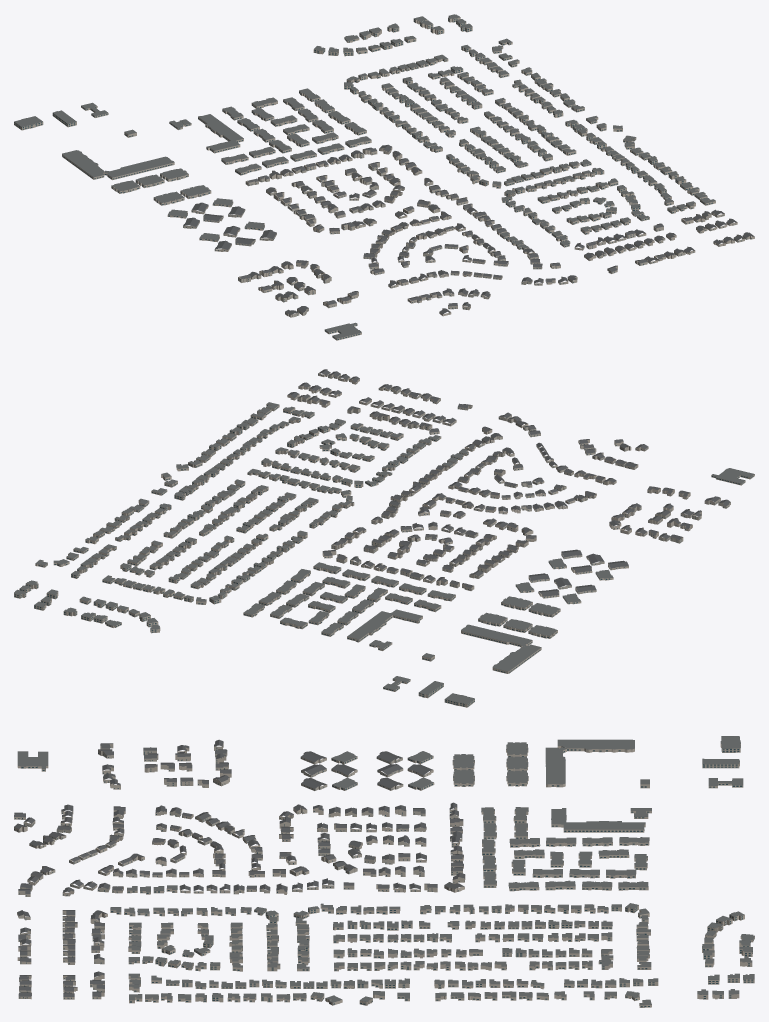
3 views of the same model, one above another, from view 1: azimuth 30°, elevation 25°; view 2: azimuth 150°, elevation 25°; view 3: azimuth 270°, elevation 25° (orthographic). The views are drawn at different scales.
Visible parts, largest first — view 1: Buildings (4, 2) Masonry brick, Buildings (4, 2) Roof membrane, Buildings (4, 2) Roof shingles, Buildings (4, 2) Architectural tinted glass, Buildings (4, 2) House siding, Buildings (4, 2) Metal coping; view 2: Buildings (4, 2) Masonry brick, Buildings (4, 2) Roof membrane, Buildings (4, 2) Roof shingles, Buildings (4, 2) Architectural tinted glass, Buildings (4, 2) House siding, Buildings (4, 2) Metal coping; view 3: Buildings (4, 2) Roof membrane, Buildings (4, 2) Masonry brick, Buildings (4, 2) Roof shingles, Buildings (4, 2) Architectural tinted glass, Buildings (4, 2) House siding, Buildings (4, 2) Metal coping.
Boxes of the visible parts, <box> form: Buildings (4, 2) Masonry brick: <box>14,16,754,340</box>; Buildings (4, 2) Roof membrane: <box>14,14,715,338</box>; Buildings (4, 2) Roof shingles: <box>183,144,754,314</box>; Buildings (4, 2) Architectural tinted glass: <box>14,17,751,339</box>; Buildings (4, 2) House siding: <box>183,153,744,317</box>; Buildings (4, 2) Metal coping: <box>15,14,710,332</box>; Buildings (4, 2) Masonry brick: <box>14,370,754,707</box>; Buildings (4, 2) Roof membrane: <box>14,402,754,704</box>; Buildings (4, 2) Roof shingles: <box>288,369,730,596</box>; Buildings (4, 2) Architectural tinted glass: <box>14,374,753,706</box>; Buildings (4, 2) House siding: <box>297,374,730,594</box>; Buildings (4, 2) Metal coping: <box>14,404,749,699</box>; Buildings (4, 2) Roof membrane: <box>17,736,754,1005</box>; Buildings (4, 2) Masonry brick: <box>14,743,754,1007</box>; Buildings (4, 2) Roof shingles: <box>14,739,465,996</box>; Buildings (4, 2) Architectural tinted glass: <box>14,746,754,1007</box>; Buildings (4, 2) House siding: <box>17,743,462,992</box>; Buildings (4, 2) Metal coping: <box>21,736,754,1005</box>.
Size of the model in its own units: 868 by 10.84 by 1017.
